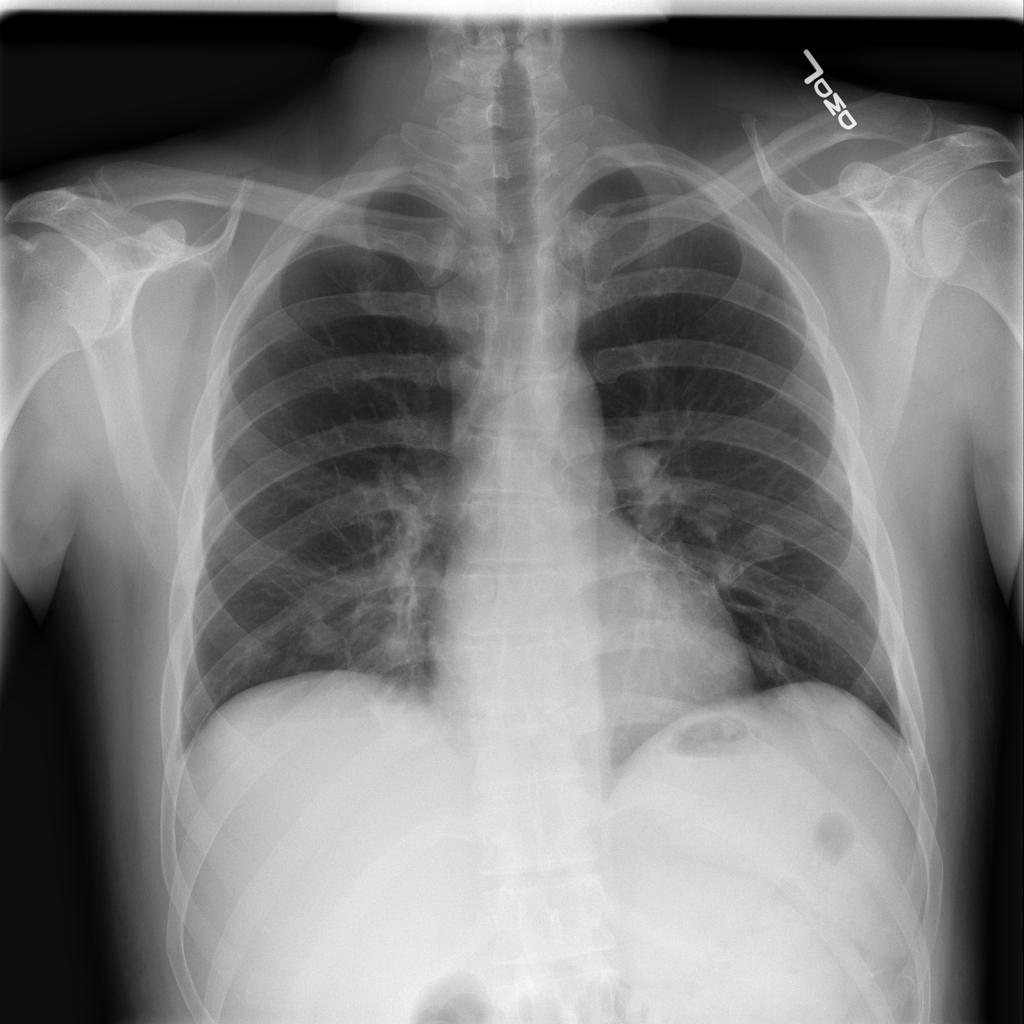nodule: (360, 610, 434, 678), (284, 602, 356, 669), (729, 510, 798, 578), (686, 494, 739, 544)
